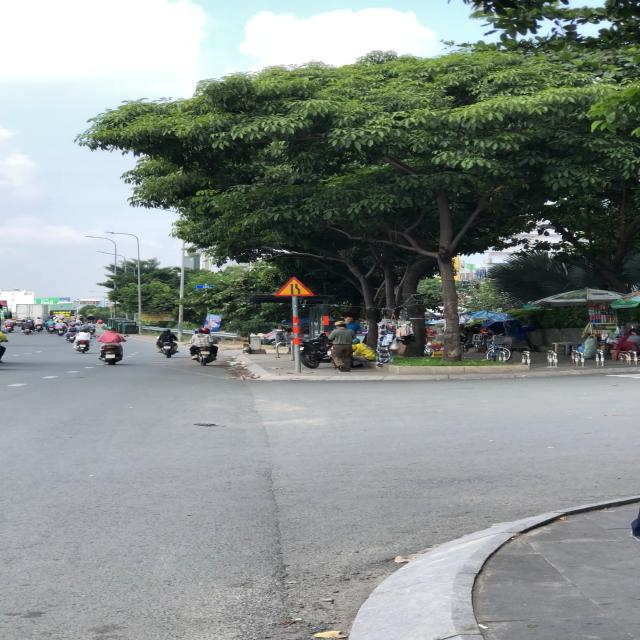Bien bao duong bi thu hep: (274, 276, 316, 297)
